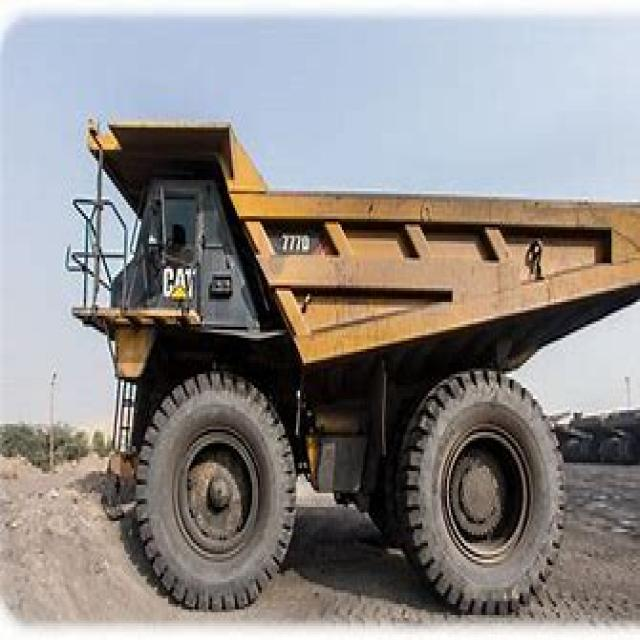dump_truck: (71, 97, 638, 612)
